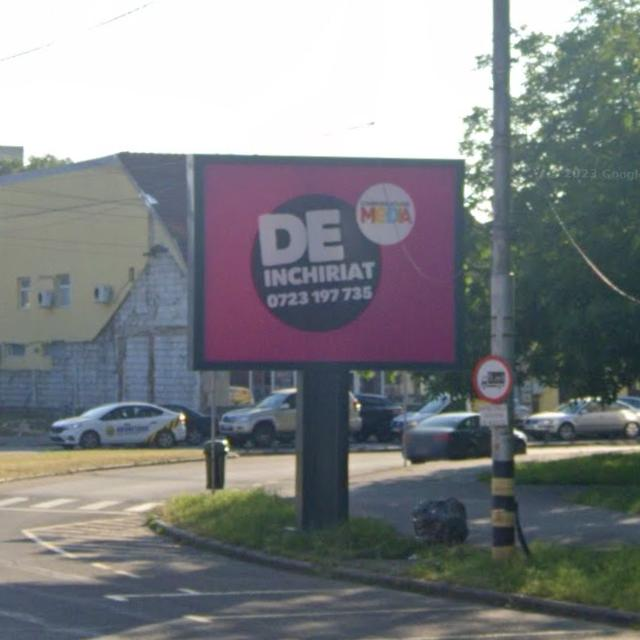forb_trucks: (473, 356, 512, 402)
